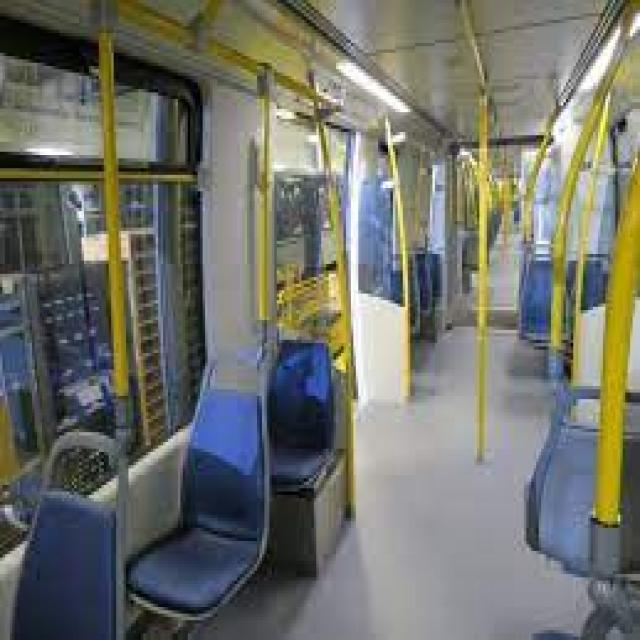empty-seat-frontal: (125, 343, 270, 624), (262, 323, 339, 492)
